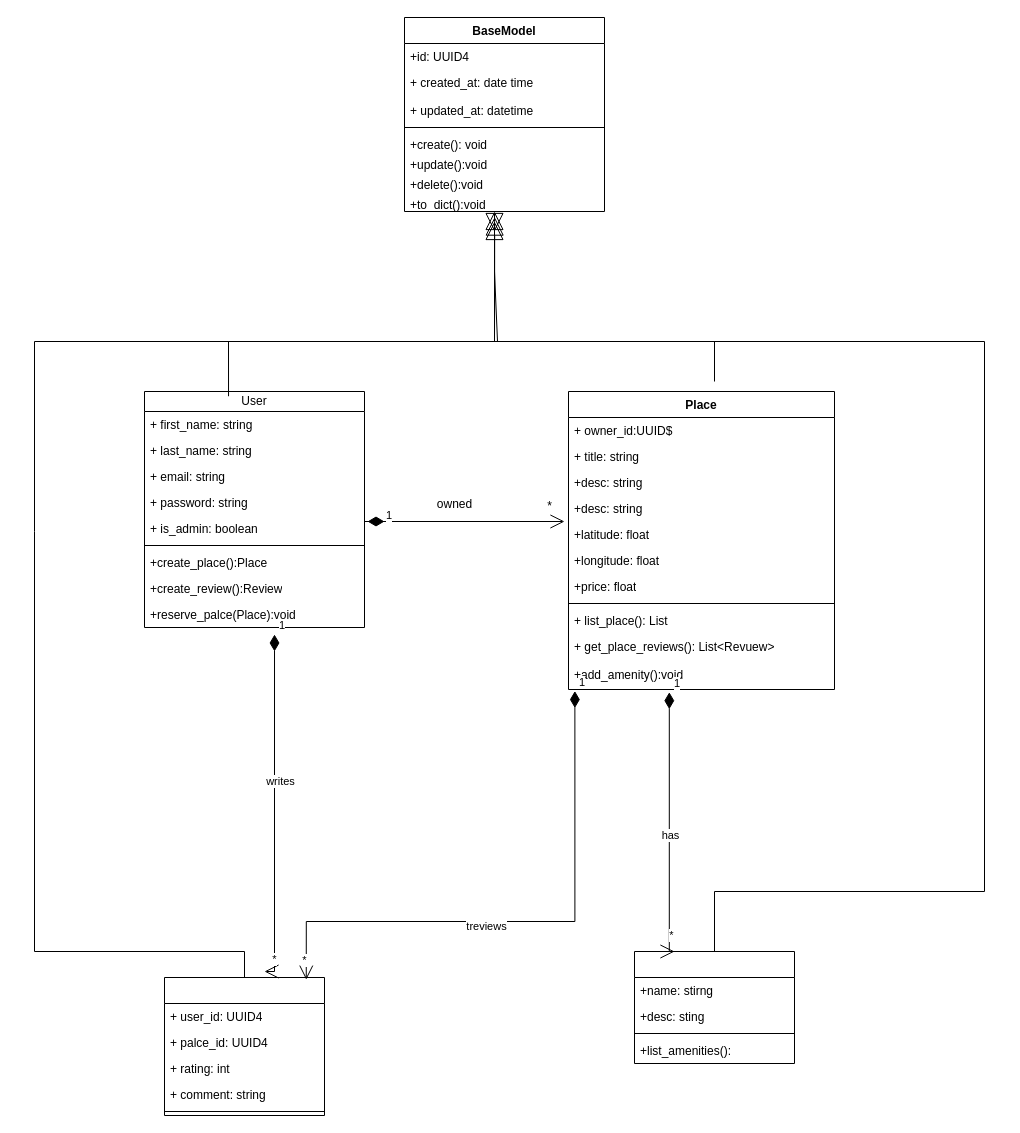
This 1020x1133 diagram has some shape labels left out. The box of each missing label's shape, as (x1, y1, x2, y2) in pixels:
Amenity: (634, 950, 794, 1064)
Review: (164, 976, 324, 1116)
